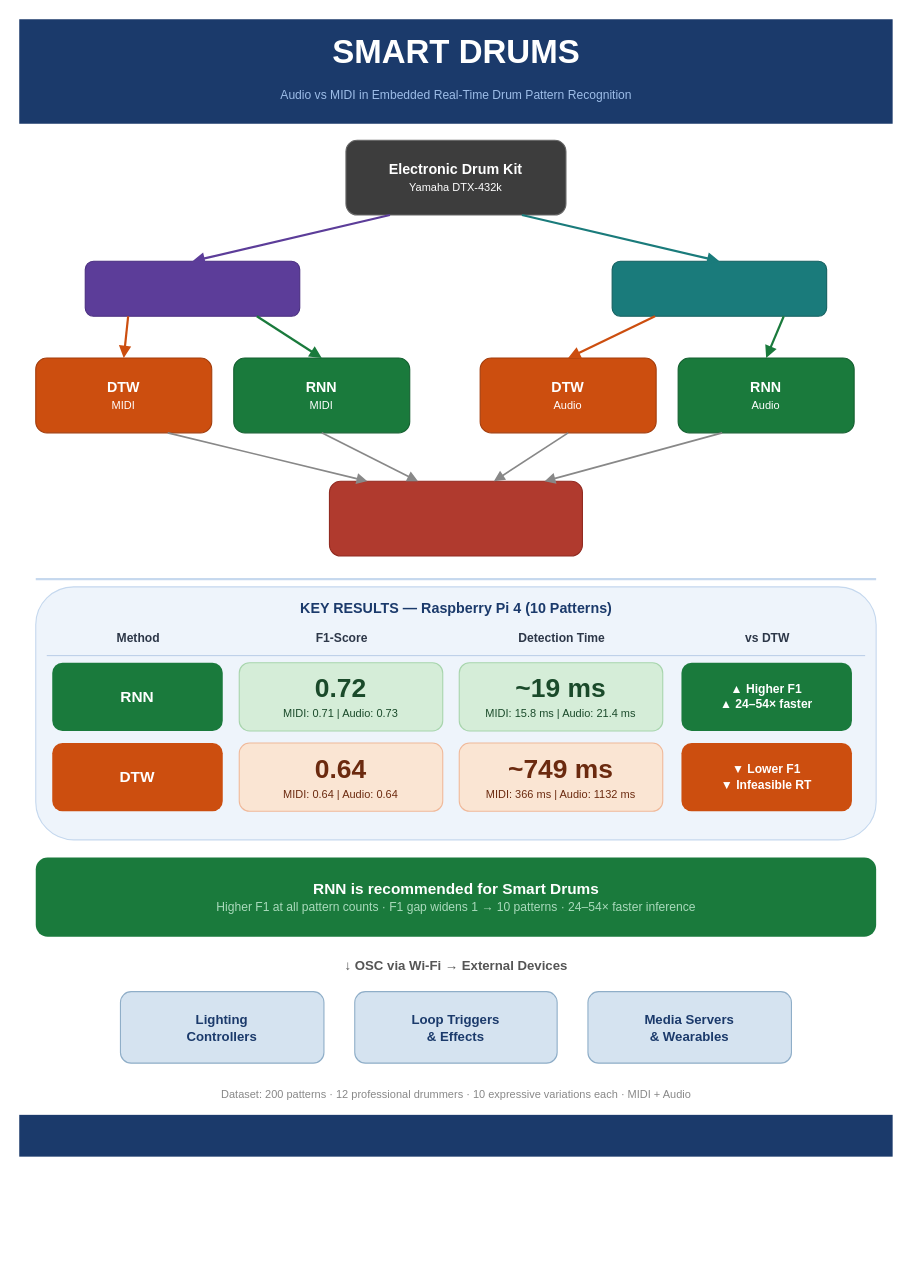
Some shapes in this 911 by 1273 pixel diagram are drawn without their labels. The shapes that lost their labels are listed below. From the top down, each one's centre as x and y in pixels, then its label:
At (192,288): "MIDI Stream".
At (719,288): "Audio Signal".
At (455,518): "Raspberry Pi 4 ELK Audio OS · Real-Time Kernel".
At (455,1135): "Journal of the Audio Engineering Society · University of Trento, Italy".
